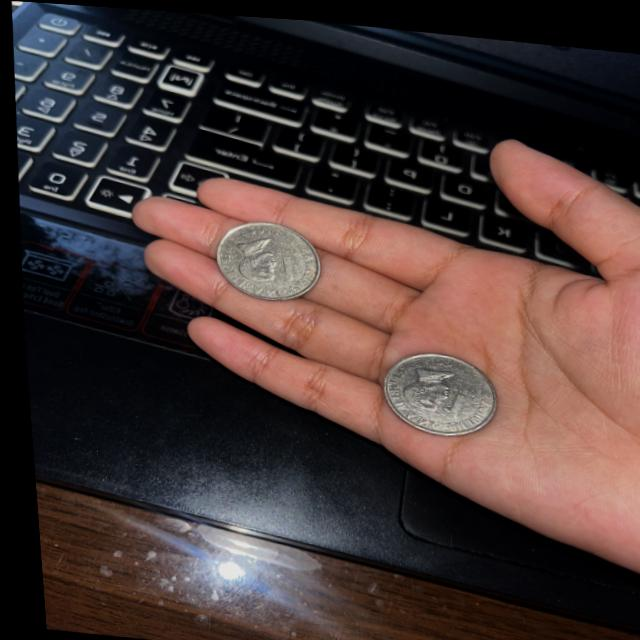1_Old_Front: (397, 359, 474, 417)
